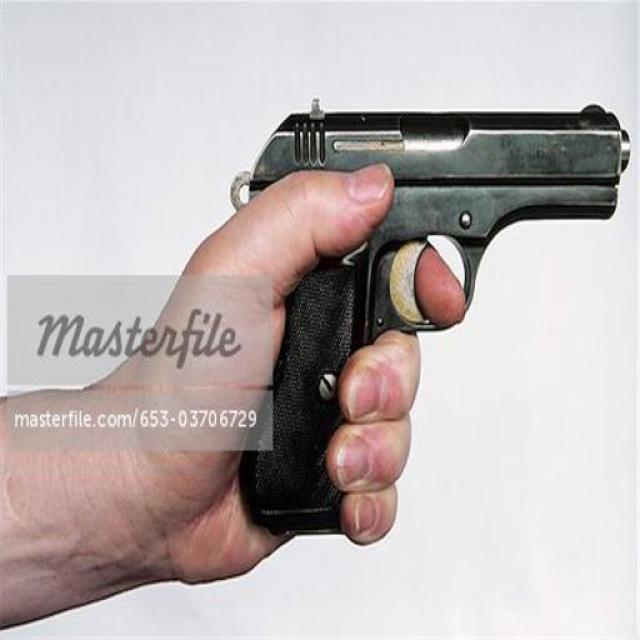pistol: (194, 91, 628, 530)
